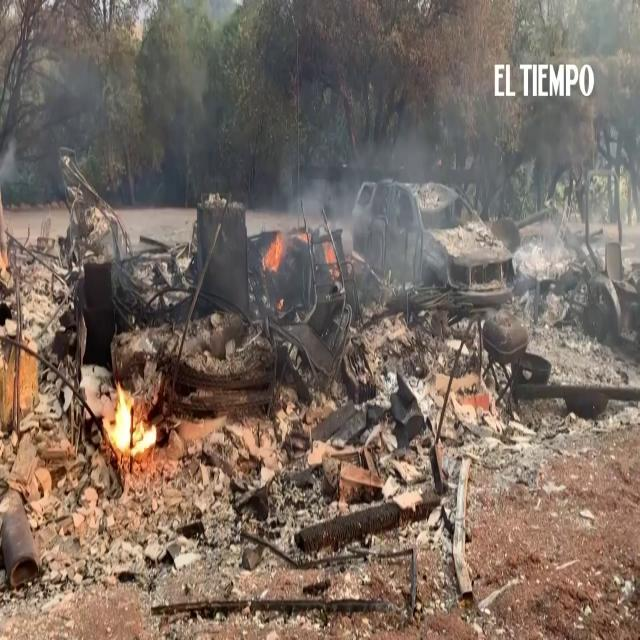fire: (106, 401, 159, 460)
smoke: (600, 8, 636, 167)
